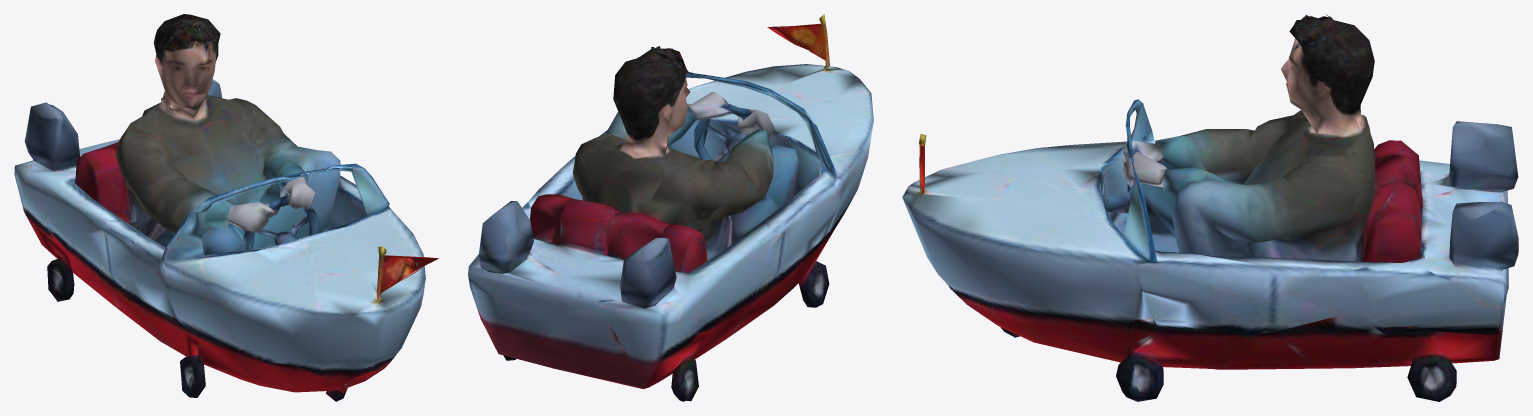
Rendered from jack-far.glb.
3 views of the same model, side by side, from view 1: azimuth 30°, elevation 25°; view 2: azimuth 150°, elevation 25°; view 3: azimuth 270°, elevation 25° (orthographic). The views are drawn at different scales.
Visible parts, largest first — view 1: tripo_node_8cc20dac-3d3d-42b2-ba6d-6231db83691e; view 2: tripo_node_8cc20dac-3d3d-42b2-ba6d-6231db83691e; view 3: tripo_node_8cc20dac-3d3d-42b2-ba6d-6231db83691e.
Part boxes in pixels (x1,y1,x2,y2): tripo_node_8cc20dac-3d3d-42b2-ba6d-6231db83691e: [14, 14, 438, 401]; tripo_node_8cc20dac-3d3d-42b2-ba6d-6231db83691e: [468, 14, 873, 401]; tripo_node_8cc20dac-3d3d-42b2-ba6d-6231db83691e: [902, 14, 1518, 401].
Bounding box in the file's own units: 0.4682 × 0.5809 × 0.9782.
1 material, 1 textured.
